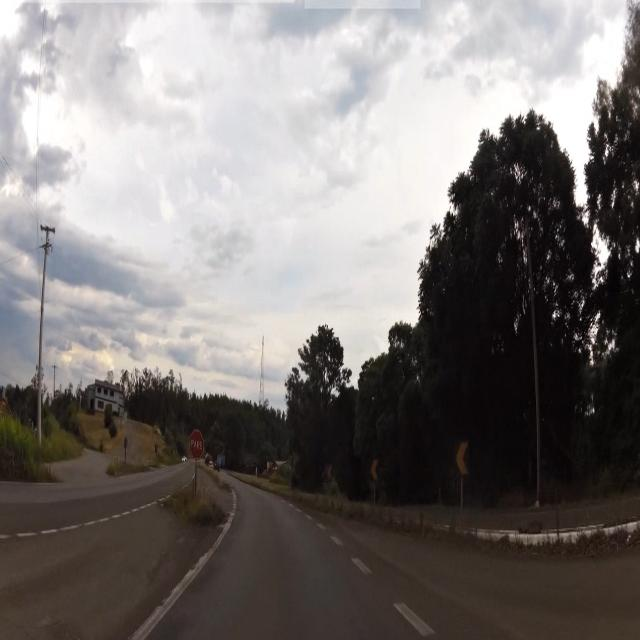Del: (454, 434, 473, 482)
R-1: (189, 426, 204, 466)
